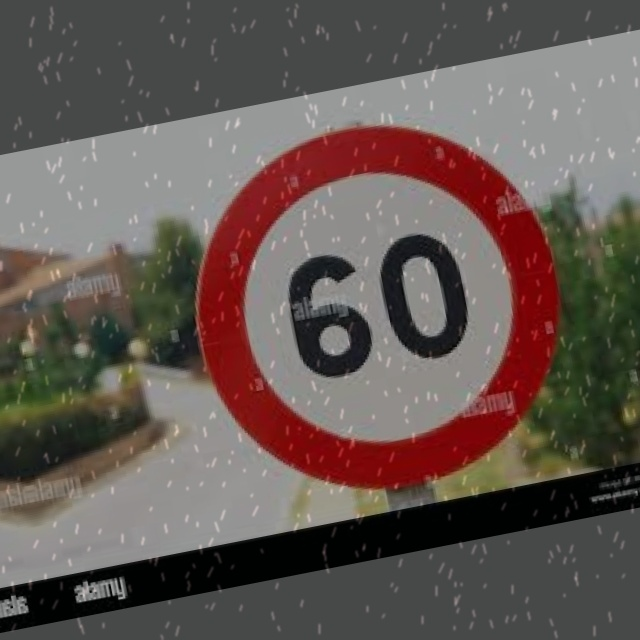Speed_Limit_60: (171, 97, 584, 504)
